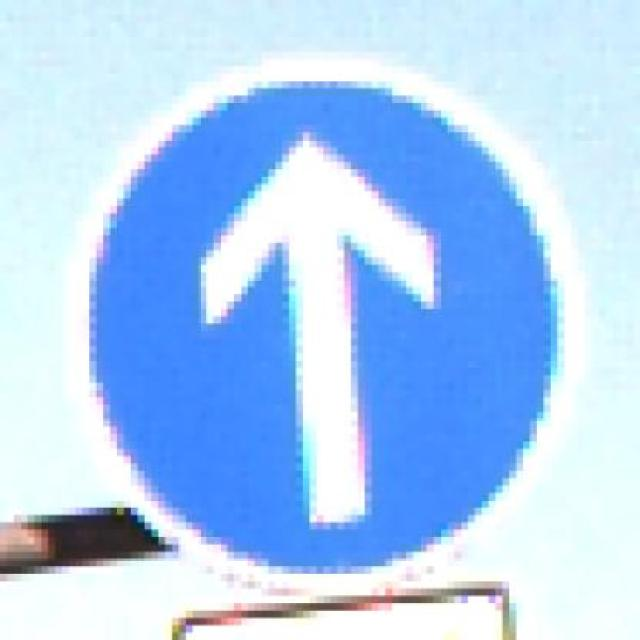Straight Ahead Only: (61, 52, 584, 603)
